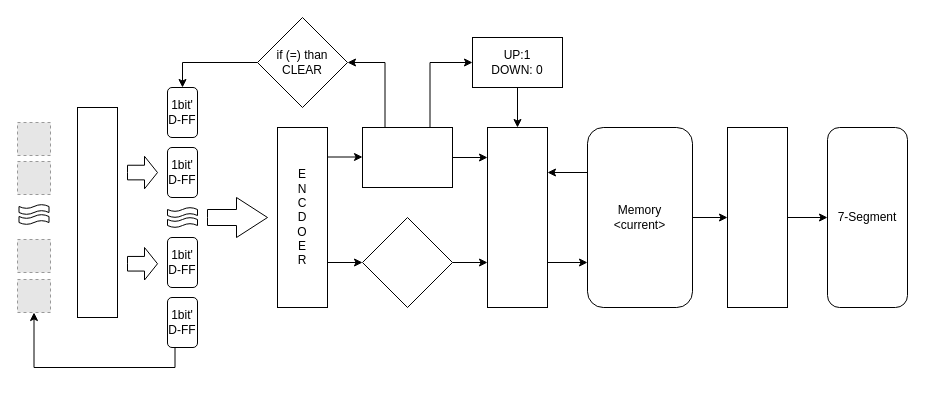
The diagram is 925 pixels wide and 393 high, and some of its shapes have lost their labels. Grey dashed boxes stand in for pictures. The shapes that lost their labels are listed below. From the top down, each one's centre as x and y in pixels, then its label:
point (407, 157): 3bit Comparator
point (97, 212): 7 5 6 3 4 1 2 button
point (517, 217): Sequential Logic Circuits
point (757, 217): D E C O D E R
point (407, 262): if 000 than DISABLE
